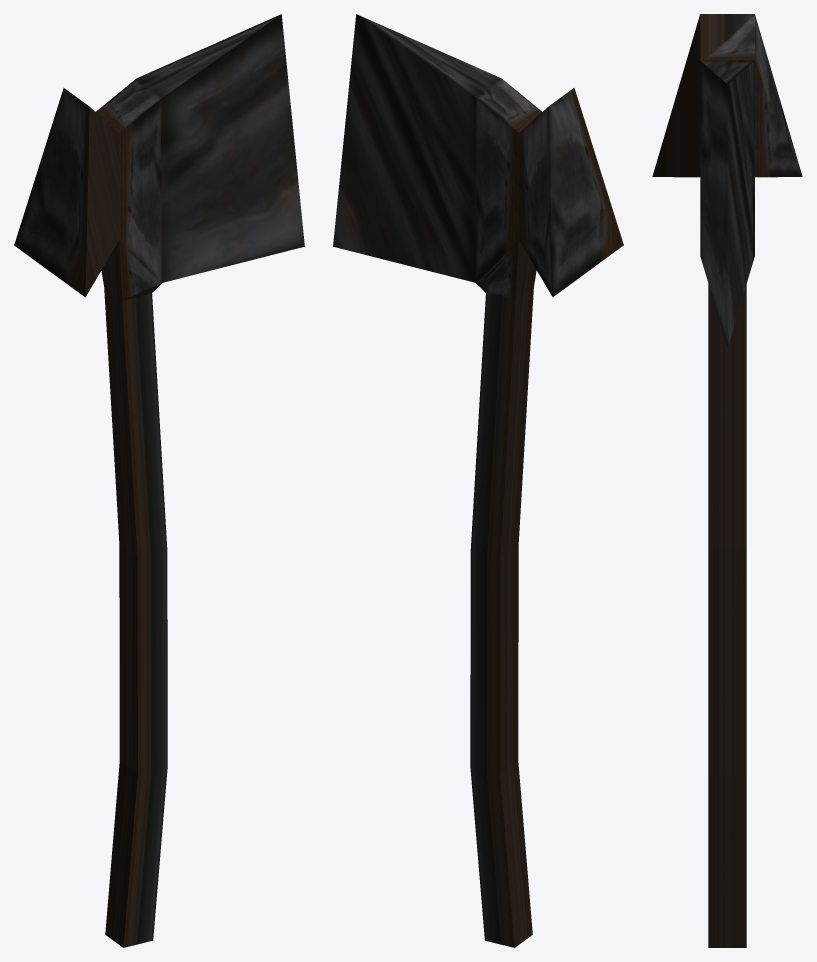
File: hammer.gltf
The picture shows the model from 3 angles, left to right: view 1: azimuth 30°, elevation 25°; view 2: azimuth 150°, elevation 25°; view 3: azimuth 270°, elevation 25°; orthographic projection. The views are drawn at different scales.
Parts seen in each view (by area): view 1: Box01; view 2: Box01; view 3: Box01.
Boxes of the visible parts, box(x1,y1,x2,y2) form: Box01: box(14, 14, 304, 947); Box01: box(333, 14, 623, 947); Box01: box(652, 14, 802, 947).
Size of the model in its own units: 26.79 by 88.88 by 12.96.
Materials: 1 (1 with a texture image).
